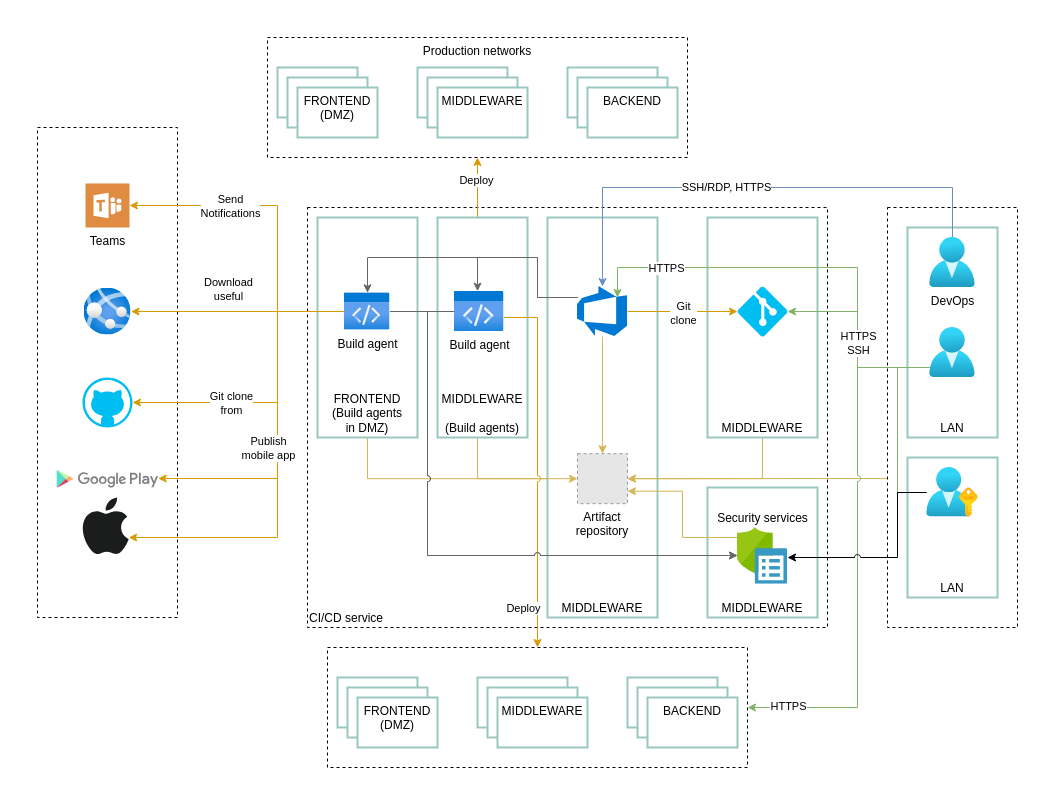
Image size: 1054x804. Some labels were removed from this diagram. Grey dashed boxes stand in for pictures. The shapes that lost their labels are listed below. From the top down, each one's box as (x1, y1, x2, y2) in pixels, then its label:
(84, 288, 130, 334): Pub services
(577, 286, 627, 336): Azure DevOps Server
(737, 286, 787, 336): Other Git server
(36, 126, 178, 618): Internet
(929, 327, 975, 377): Dev
(82, 377, 132, 427): Github.com
(886, 206, 1018, 628): USERS
(926, 467, 978, 517): Application security manager
(81, 497, 128, 554): AppStore
(326, 646, 748, 768): Test networks
